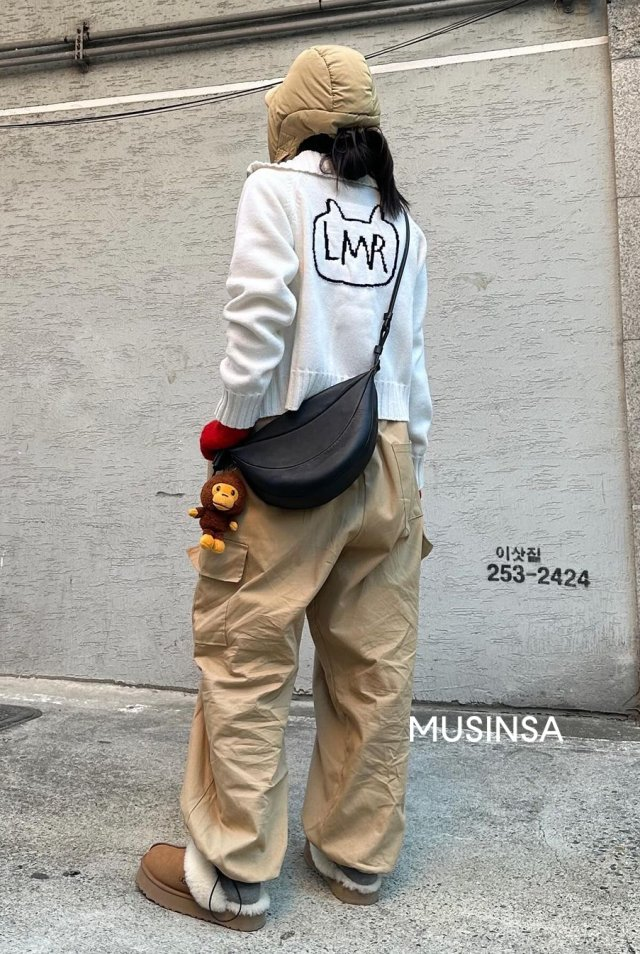Bag: (218, 376, 384, 510)
Boots: (126, 833, 380, 929)
Hat: (260, 40, 387, 165)
Outer: (214, 149, 438, 450)
Pants: (189, 425, 415, 887)
